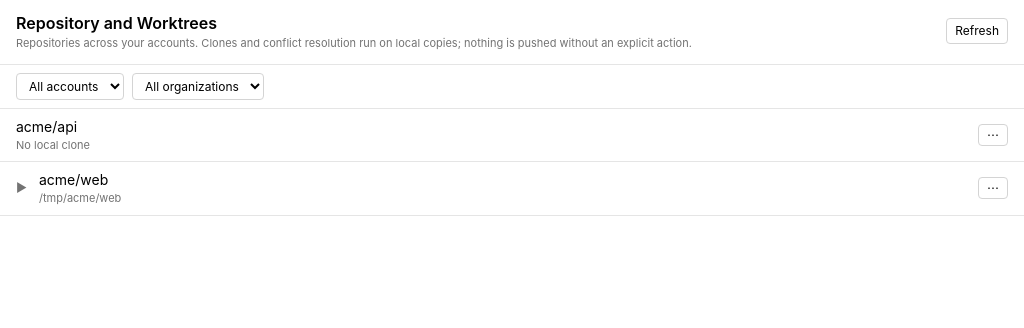
Test: Repos › adds a worktree with the branch/relative path and reloads the catalog
The width and height of the screenshot is (1024, 328).
Click the button named "Worktrees for acme/web". click: (22,188)
box: [16,180,27,196]
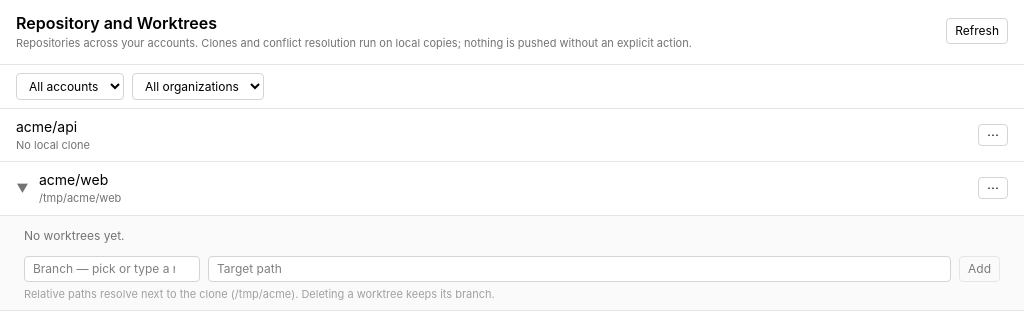
Now the text "No worktrees yet." is shown, box [24,228,124,242]
Type "feature" into the field named "Branch for new acme/web worktree". click: (112,268)
box: [24,256,200,282]
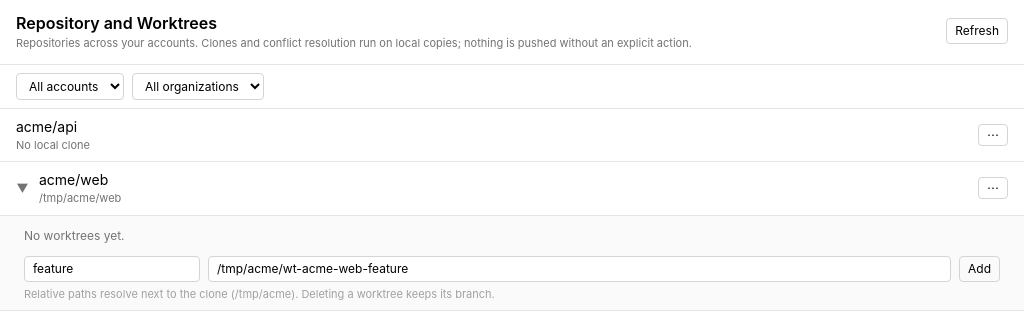
Now the field named "Path for new acme/web worktree" holds "/tmp/acme/wt-acme-web-feature", box [208,256,951,282]
Submit the form from the button "Add", box [959,256,1000,282]
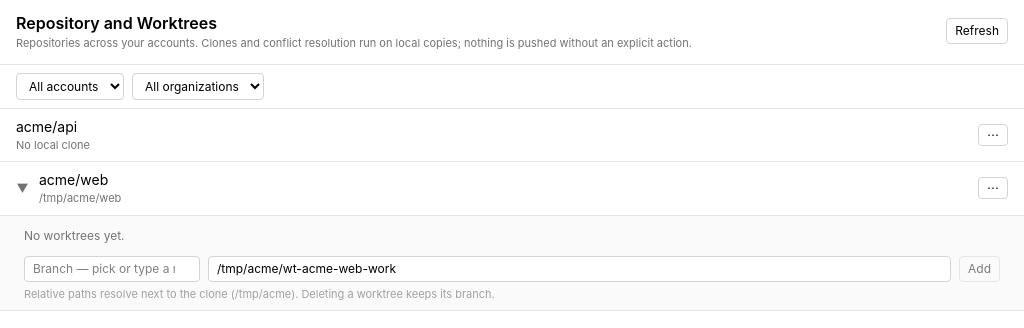
Now the field named "Branch for new acme/web worktree" is empty, box [24,256,200,282]
Now the field named "Path for new acme/web worktree" holds "/tmp/acme/wt-acme-web-work", box [208,256,951,282]
